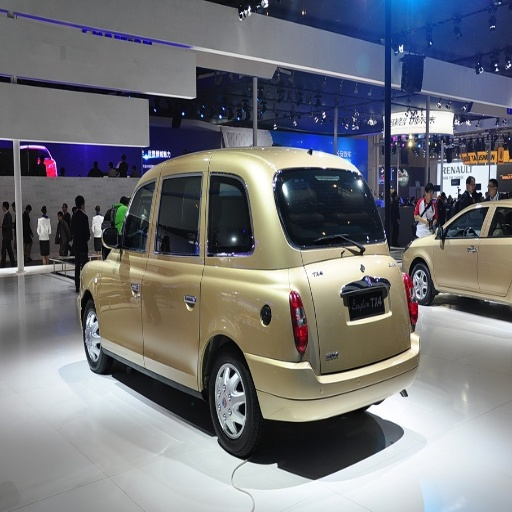back_bumper: (261, 314, 420, 422)
back_glass: (278, 170, 370, 246)
back_left_door: (150, 169, 248, 353)
trunk: (194, 256, 403, 386)
